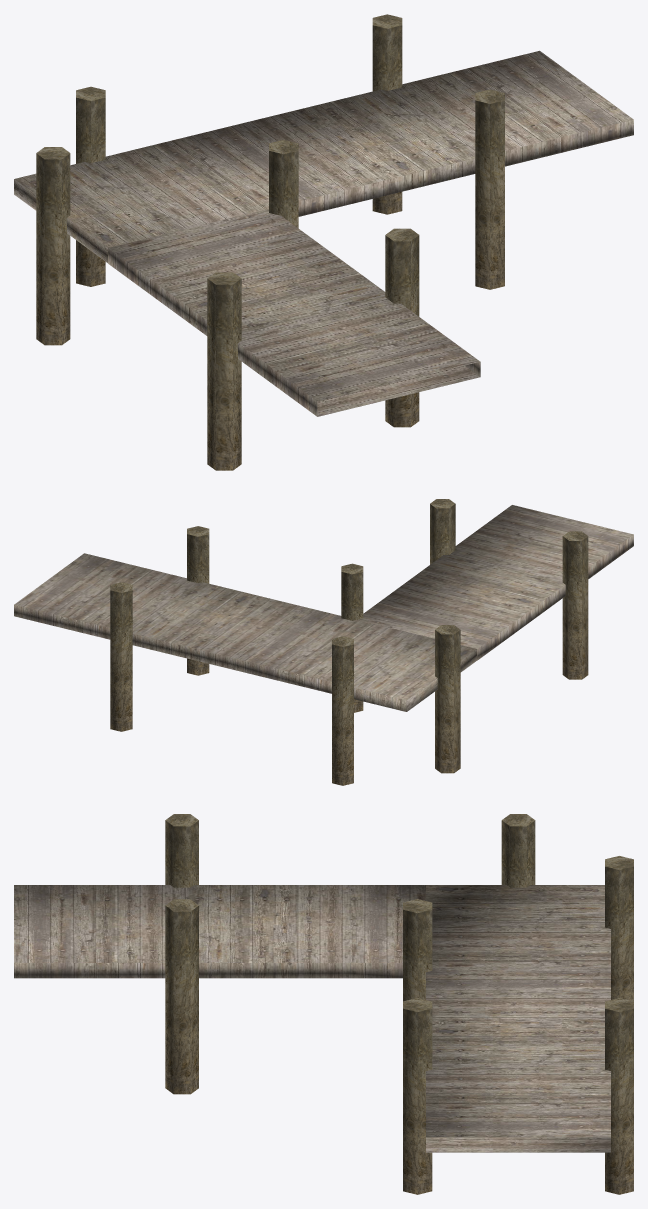
Rendered from Bridge_L-Tile.fbx.
The picture shows the model from 3 angles, top to bottom: view 1: azimuth 30°, elevation 25°; view 2: azimuth 150°, elevation 25°; view 3: azimuth 270°, elevation 25°; orthographic projection. The views are drawn at different scales.
Parts seen in each view (by area): view 1: Bridge.L-Tile; view 2: Bridge.L-Tile; view 3: Bridge.L-Tile.
Part boxes in pixels (x1,y1,x2,y2): Bridge.L-Tile: (14,14,633,470); Bridge.L-Tile: (14,499,633,785); Bridge.L-Tile: (14,814,633,1194).
Bounding box in the file's own units: 184 × 59.95 × 184.
